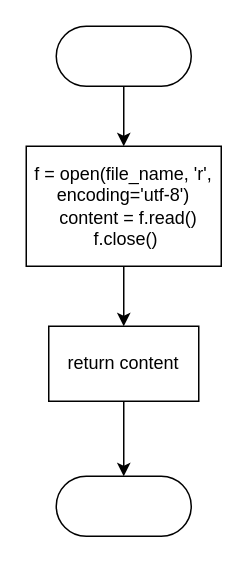
Some shapes in this 248 by 563 pixel diagram are drawn without their labels. Each missing label, with the centre of its shape:
begin: the point at 123,55
end: the point at 123,505
